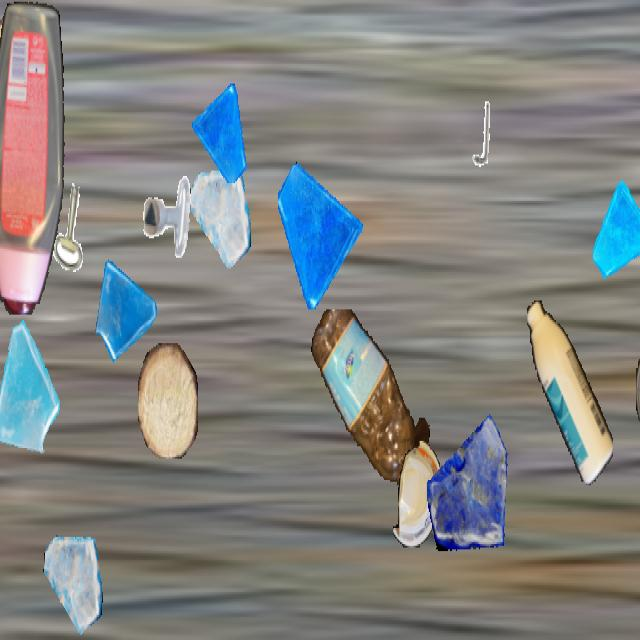glass: (427, 404, 513, 556), (278, 158, 362, 308), (0, 318, 61, 461), (93, 249, 159, 366), (190, 165, 250, 272), (43, 532, 103, 638), (192, 82, 248, 181), (593, 182, 640, 284)
metal: (45, 178, 101, 277), (142, 172, 194, 265), (460, 98, 500, 169)
plastic: (0, 2, 69, 314), (308, 310, 432, 483), (527, 300, 613, 486), (393, 441, 443, 547), (636, 327, 640, 459)
wood: (138, 343, 198, 457), (0, 16, 62, 73)
